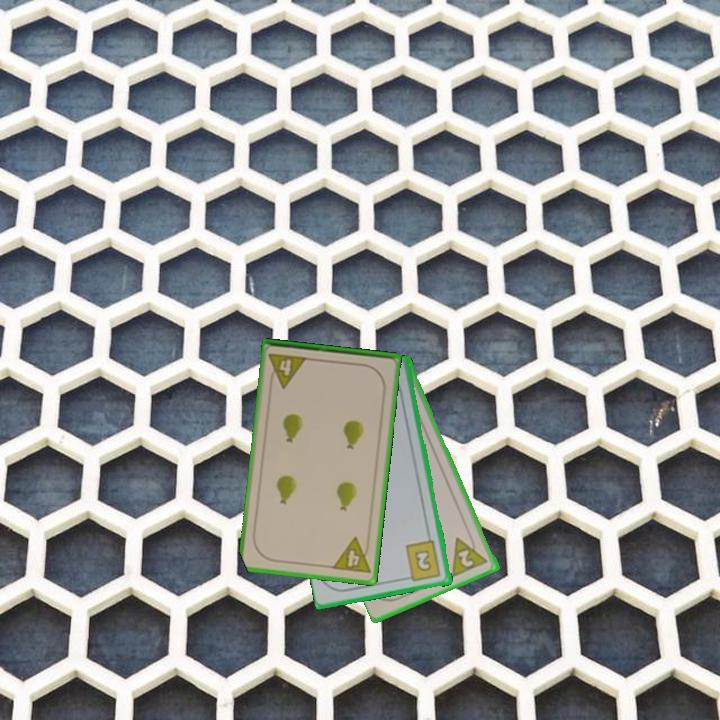2b: (402, 537, 444, 584)
2p: (449, 530, 491, 580)
4p: (328, 534, 373, 577), (265, 350, 310, 391)
